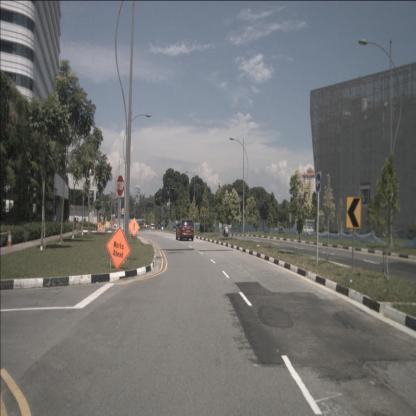vehicle-car: (176, 219, 194, 241), (170, 226, 178, 233), (158, 224, 164, 231), (150, 223, 155, 230)
vehicle-motorcycle: (222, 220, 229, 238)
